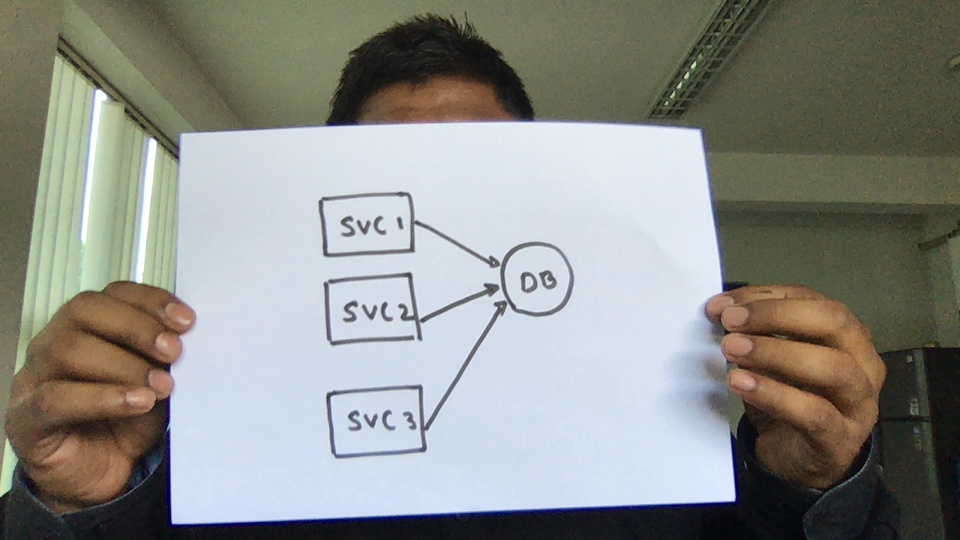db: (493, 237, 578, 324)
ec2: (312, 186, 423, 265), (315, 270, 426, 349), (322, 383, 433, 462)
